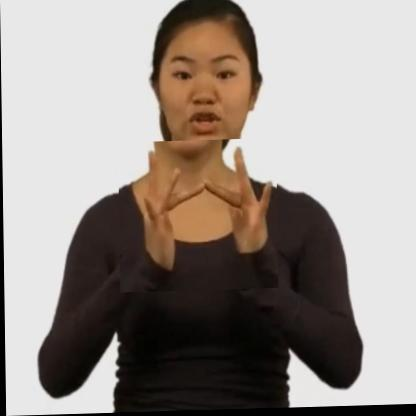Internet: (118, 140, 277, 294)
